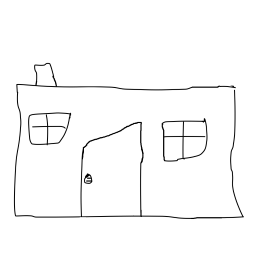chimney: (28, 59, 65, 92)
closed_window: (160, 114, 213, 168), (24, 109, 75, 151)
door: (75, 119, 148, 223)
single_line_roof: (7, 76, 249, 115)
wall: (10, 94, 247, 223)
